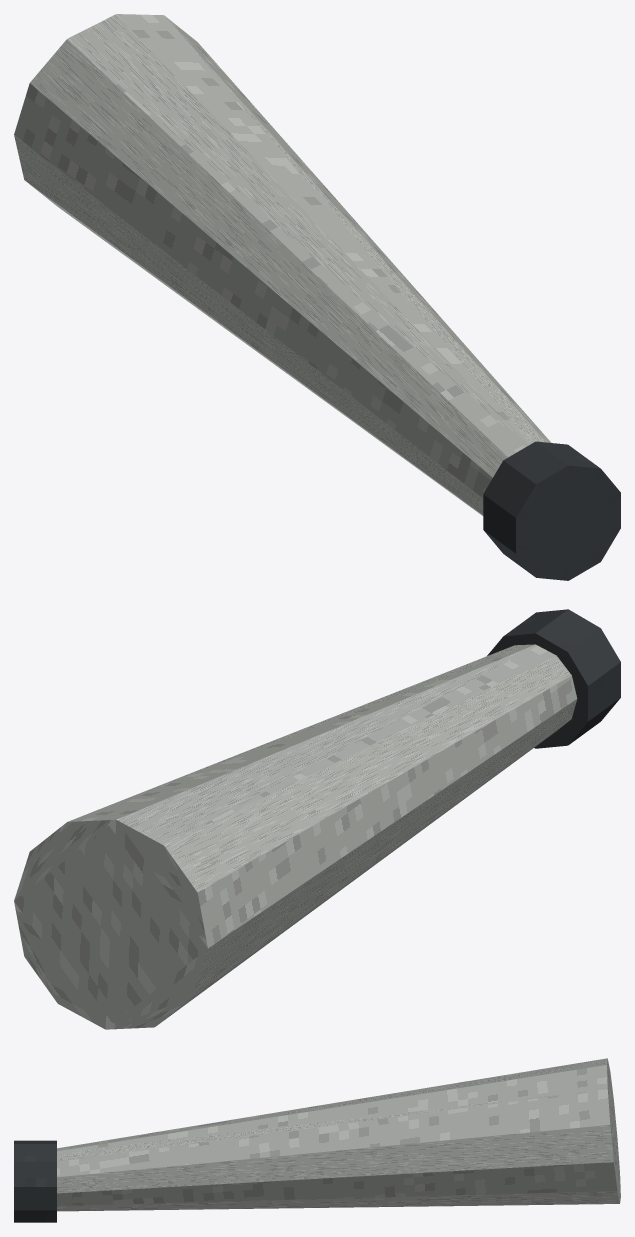
File: bat_metal.glb
3 views of the same model, one above another, from view 1: azimuth 30°, elevation 25°; view 2: azimuth 150°, elevation 25°; view 3: azimuth 270°, elevation 25° (orthographic). The views are drawn at different scales.
Visible parts, largest first — view 1: block_tapered handle, block_grip butt; view 2: block_tapered handle, block_grip butt; view 3: block_tapered handle, block_grip butt.
Boxes of the visible parts, bbox=[...] form: block_tapered handle: bbox=[14, 14, 551, 515]; block_grip butt: bbox=[483, 441, 620, 580]; block_tapered handle: bbox=[14, 644, 577, 1029]; block_grip butt: bbox=[487, 609, 620, 748]; block_tapered handle: bbox=[57, 1058, 620, 1211]; block_grip butt: bbox=[14, 1140, 56, 1222].
Bounding box in the file's own units: 0.2176 × 0.2531 × 0.9.
Materials: 1 (1 with a texture image).
